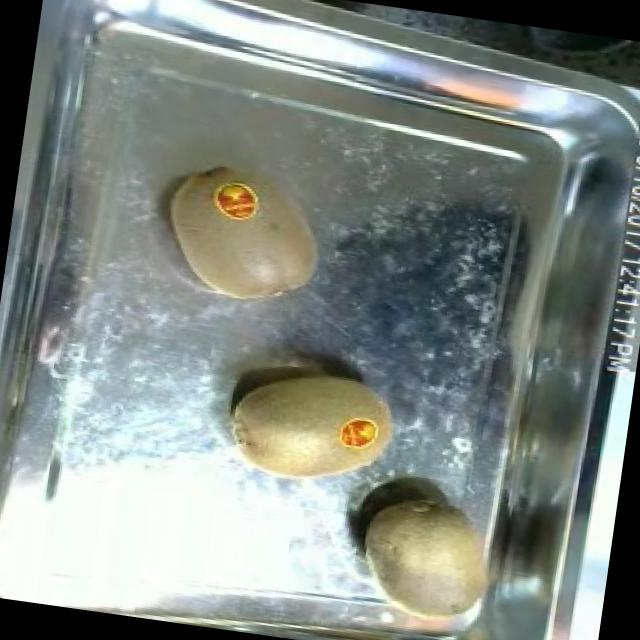Fruit: (146, 155, 340, 320), (212, 350, 400, 502), (341, 482, 514, 638)
